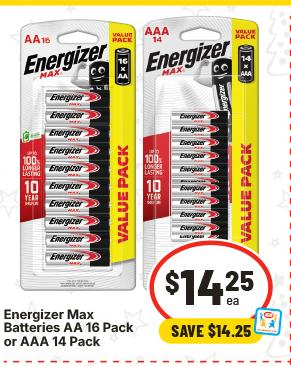description_block: (3, 300, 135, 353)
price_main: (153, 237, 269, 320)
product_image_block: (13, 19, 269, 292)
promo_text_block: (150, 314, 262, 349)
